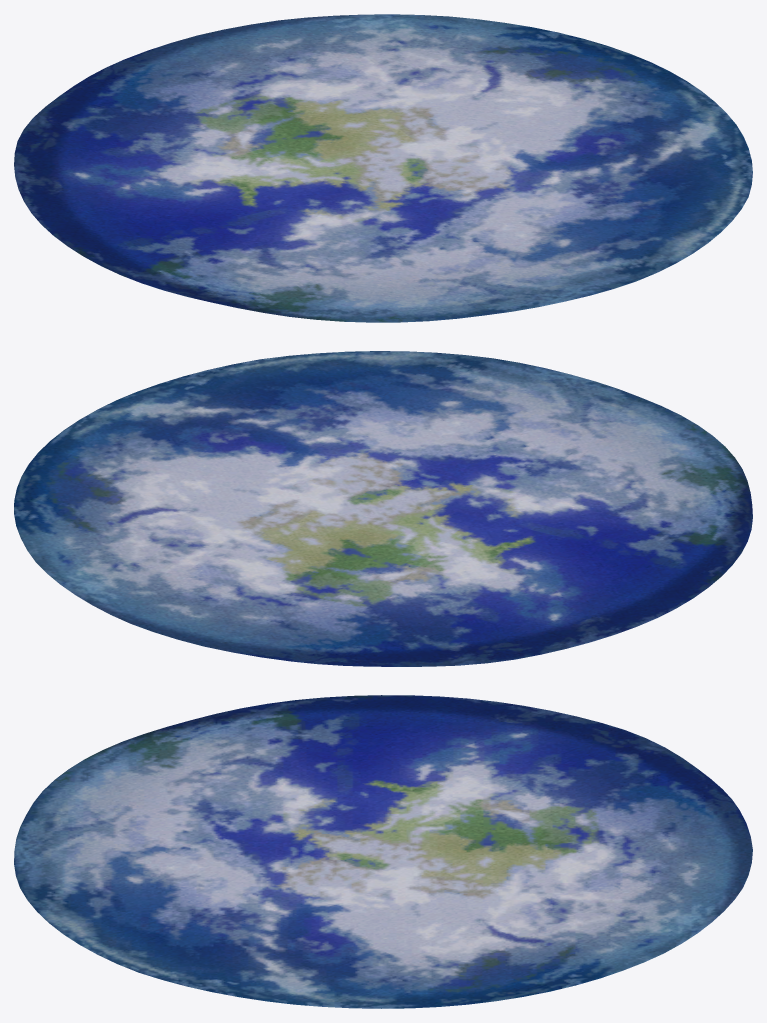
The model's file is RugRoundEarthM00.glb.
3 renders of one model, top to bottom at view 1: azimuth 30°, elevation 25°; view 2: azimuth 150°, elevation 25°; view 3: azimuth 270°, elevation 25°, orthographic.
Parts seen in each view (by area): view 1: Main__mMain; view 2: Main__mMain; view 3: Main__mMain.
Part boxes in pixels (bbox=[...]): Main__mMain: bbox=[14, 14, 752, 322]; Main__mMain: bbox=[14, 351, 752, 666]; Main__mMain: bbox=[14, 695, 752, 1008].
Size of the model in its own units: 29.78 by 0.03 by 29.65.
Materials: 1 (1 with a texture image).
